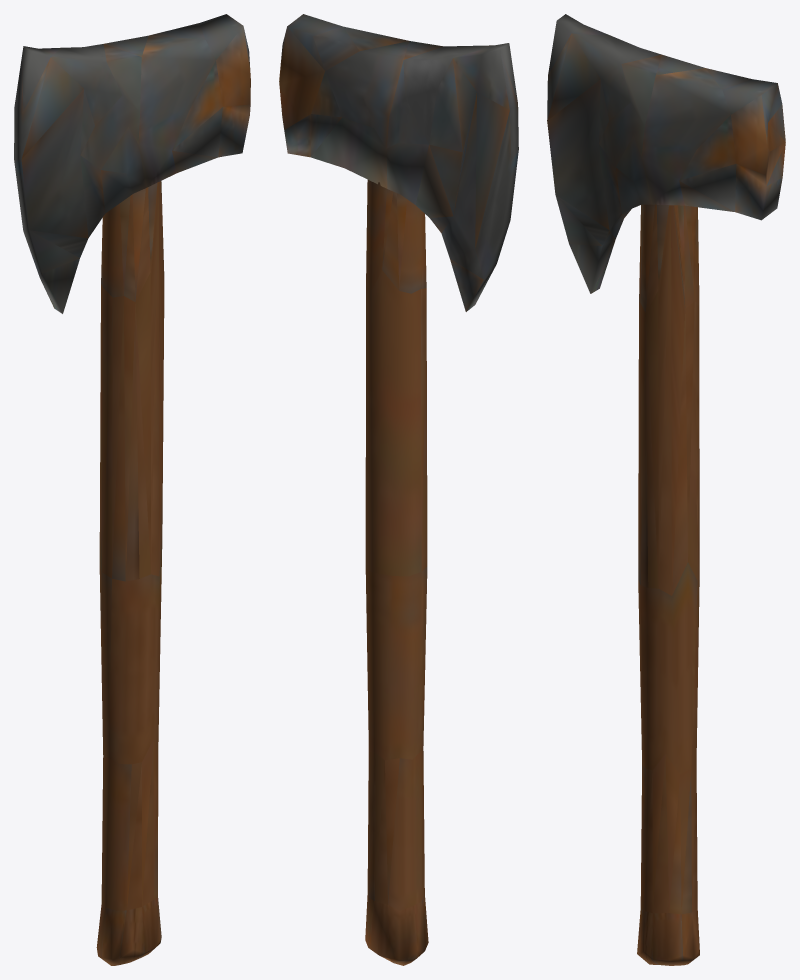
The model's file is weap_germanic_hand_axe_1.glb.
3 renders of one model, left to right at view 1: azimuth 30°, elevation 25°; view 2: azimuth 150°, elevation 25°; view 3: azimuth 330°, elevation 25°, orthographic.
Visible parts, largest first — view 1: MeshyEquipment_weap_germanic_hand_axe; view 2: MeshyEquipment_weap_germanic_hand_axe; view 3: MeshyEquipment_weap_germanic_hand_axe.
Part boxes in pixels (x1=…): MeshyEquipment_weap_germanic_hand_axe: x1=14, y1=14, x2=250, y2=965; MeshyEquipment_weap_germanic_hand_axe: x1=279, y1=14, x2=518, y2=965; MeshyEquipment_weap_germanic_hand_axe: x1=547, y1=14, x2=785, y2=965.
Bounding box in the file's own units: 0.1567 × 0.6202 × 0.0406.
1 material, 1 textured.
